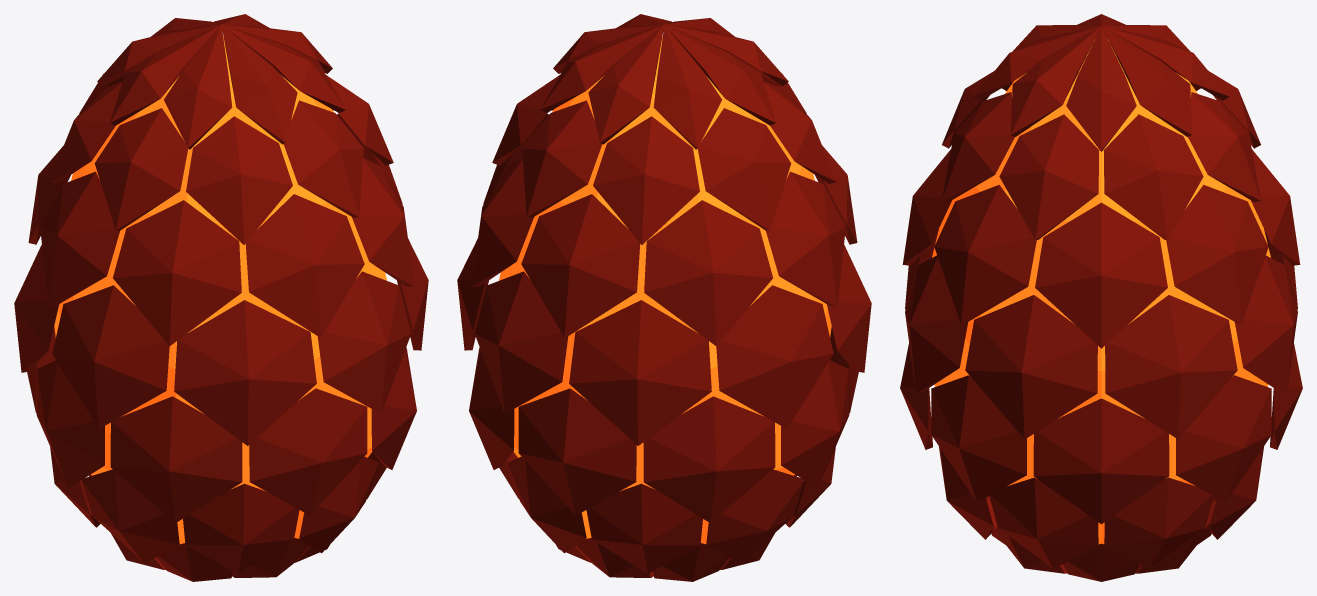
File: ember-dragon-egg-0700c7.glb
3 views of the same model, side by side, from view 1: azimuth 30°, elevation 25°; view 2: azimuth 150°, elevation 25°; view 3: azimuth 270°, elevation 25° (orthographic).
Visible parts, largest first — view 1: shell, ember; view 2: shell, ember; view 3: shell, ember.
Boxes of the visible parts, x1,y1,x2,y2 form: shell: [14, 14, 428, 581]; ember: [54, 37, 386, 544]; shell: [457, 14, 871, 581]; ember: [499, 37, 831, 544]; shell: [900, 14, 1302, 581]; ember: [932, 38, 1270, 544].
Bounding box in the file's own units: 0.4936 × 0.734 × 0.4936.
